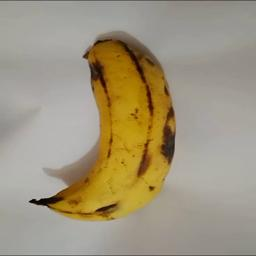Banana Semifresh: (27, 31, 178, 225)
